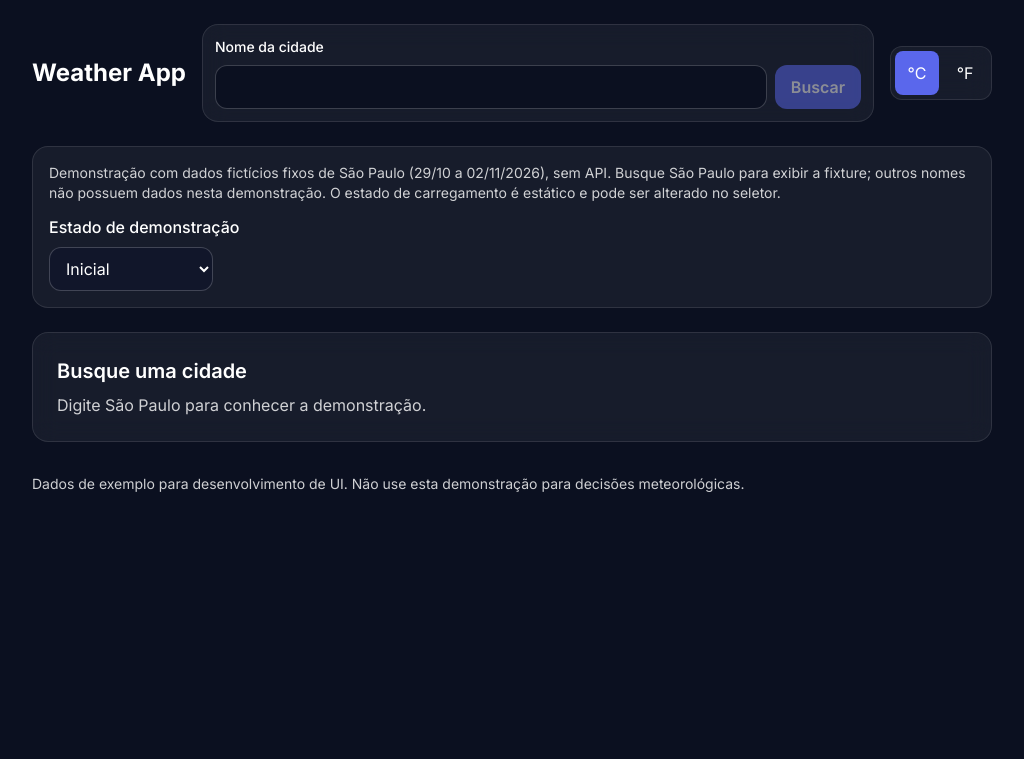
Test: demonstra todos os estados e retry simulado sem timers ou API
Select "Carregando" in the dropdown labelled "Estado de demonstração" at x=131, y=269, box [49, 247, 213, 291]
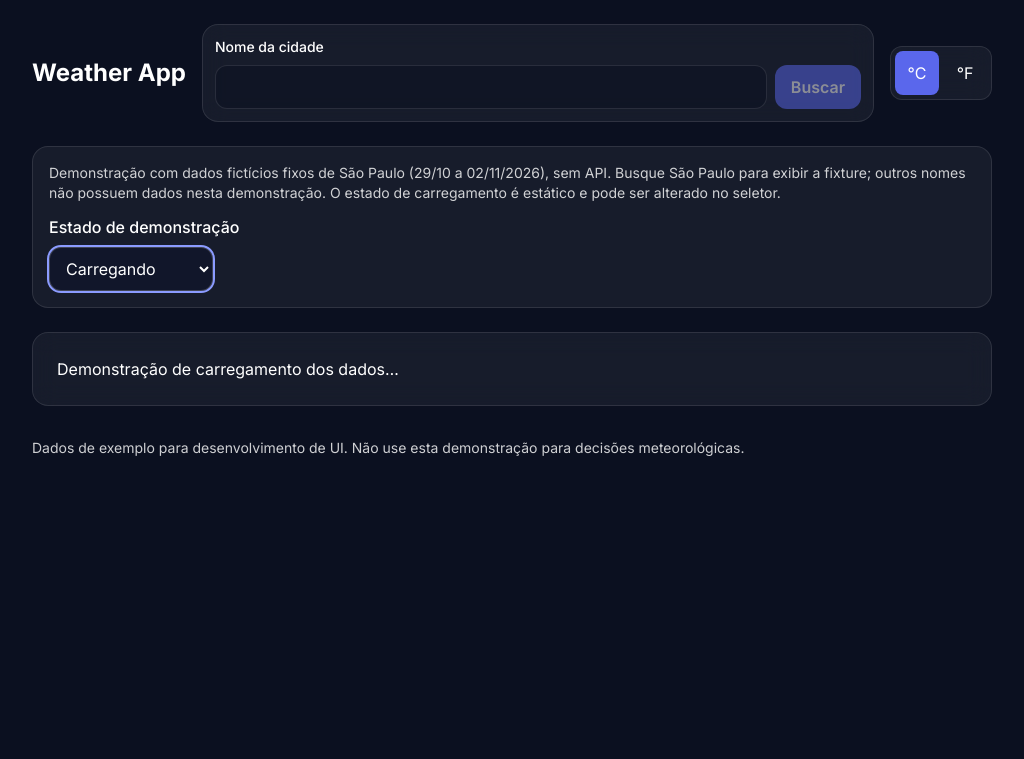
Expected: the search field is disabled, [215, 65, 767, 109]
Now the message shows "Demonstração de carregamento", box [57, 359, 399, 379]
Select "Erro" in the dropdown labelled "Estado de demonstração" at x=131, y=269, box [49, 247, 213, 291]
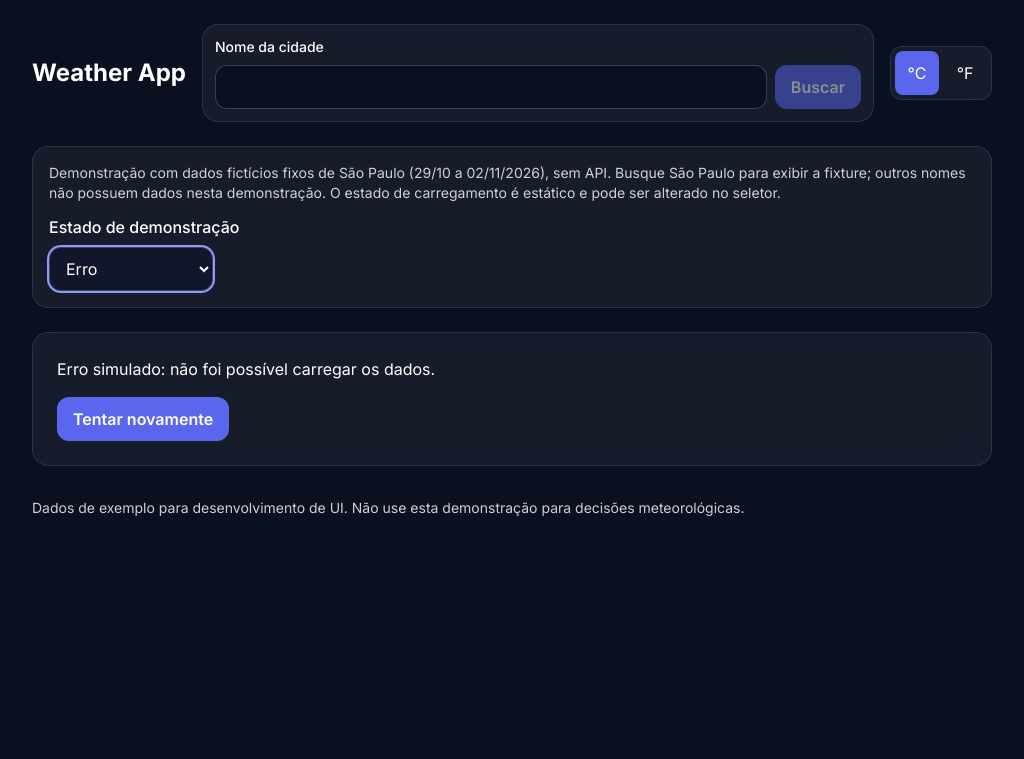
Now the message shows "Erro simulado", box [57, 359, 435, 379]
Click the button "Tentar novamente" at x=143, y=419, box [57, 397, 229, 441]
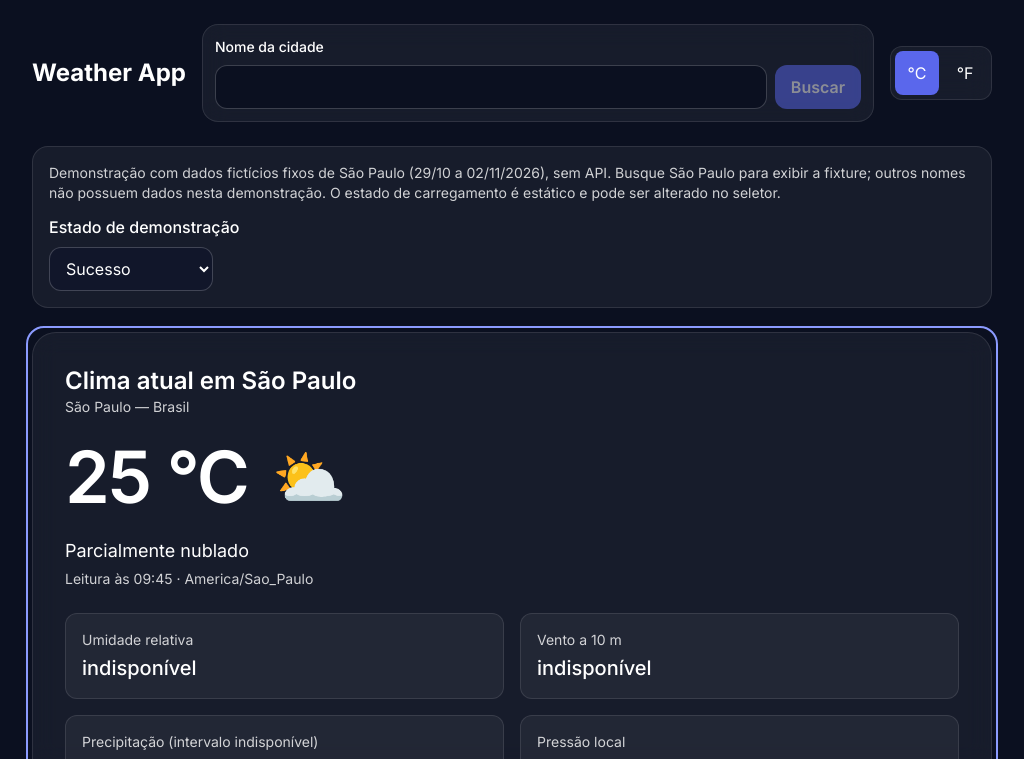
Now the text "25 °C" is shown, box [65, 441, 248, 513]
Select "Sem resultados" in the dropdown labelled "Estado de demonstração" at x=131, y=269, box [49, 247, 213, 291]
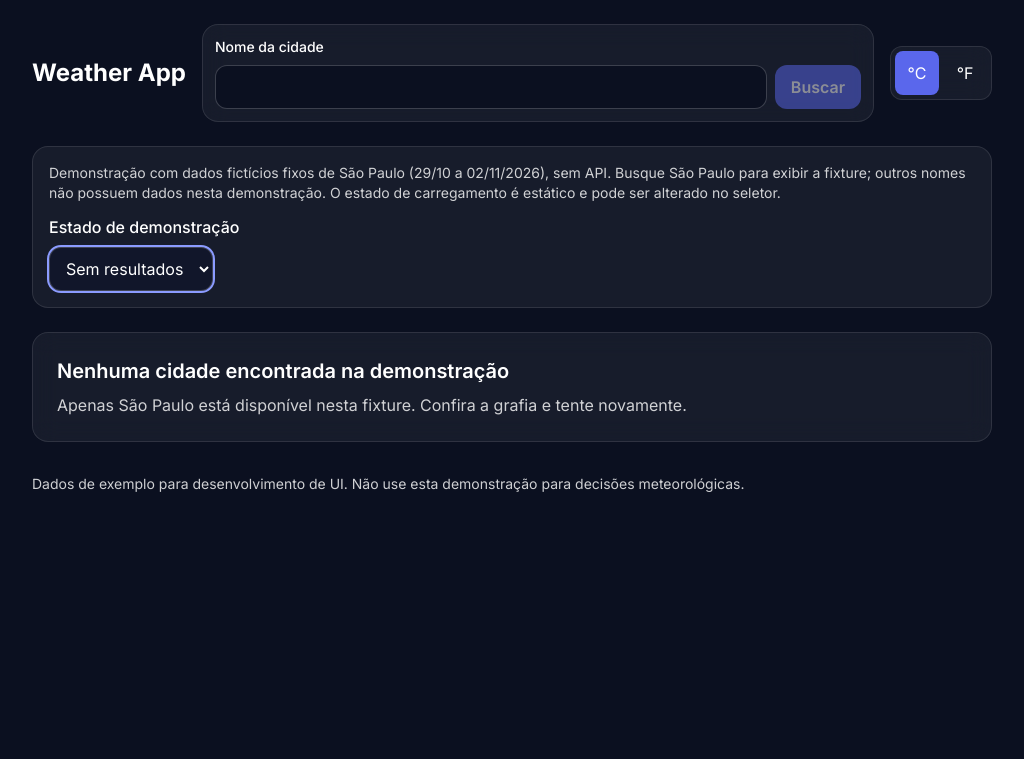
Now the heading "Nenhuma cidade encontrada na demonstração" is shown, box [57, 359, 509, 383]
Select "Inicial" in the dropdown labelled "Estado de demonstração" at x=131, y=269, box [49, 247, 213, 291]
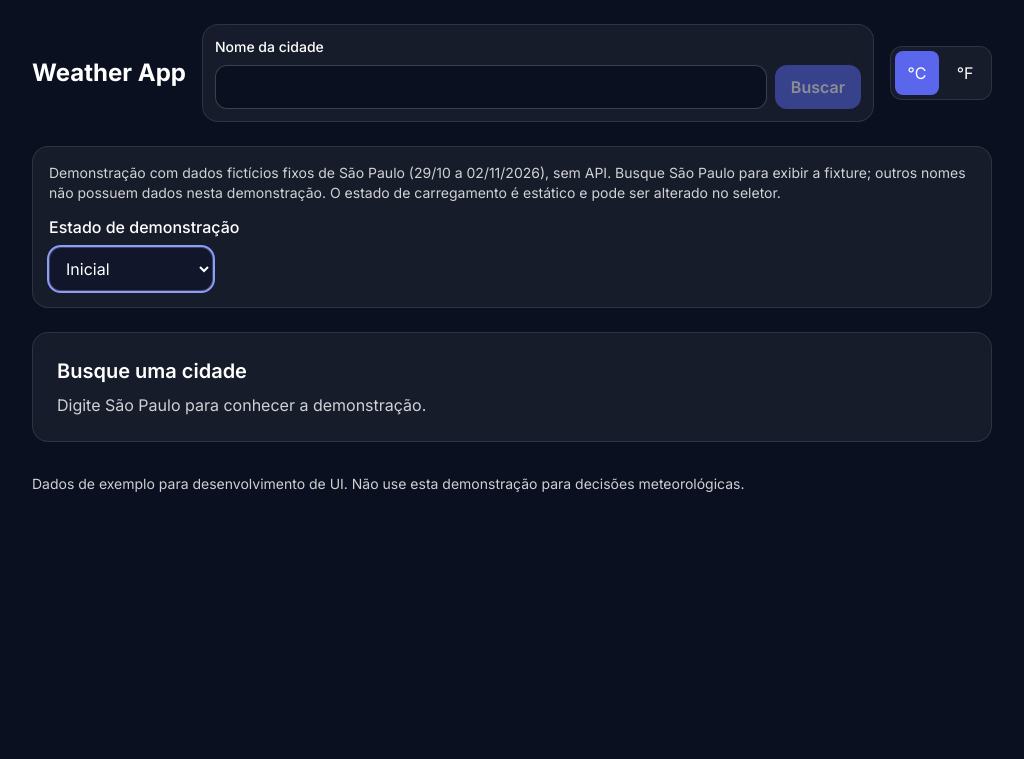
Now the heading "Busque uma cidade" is shown, box [57, 359, 247, 383]
